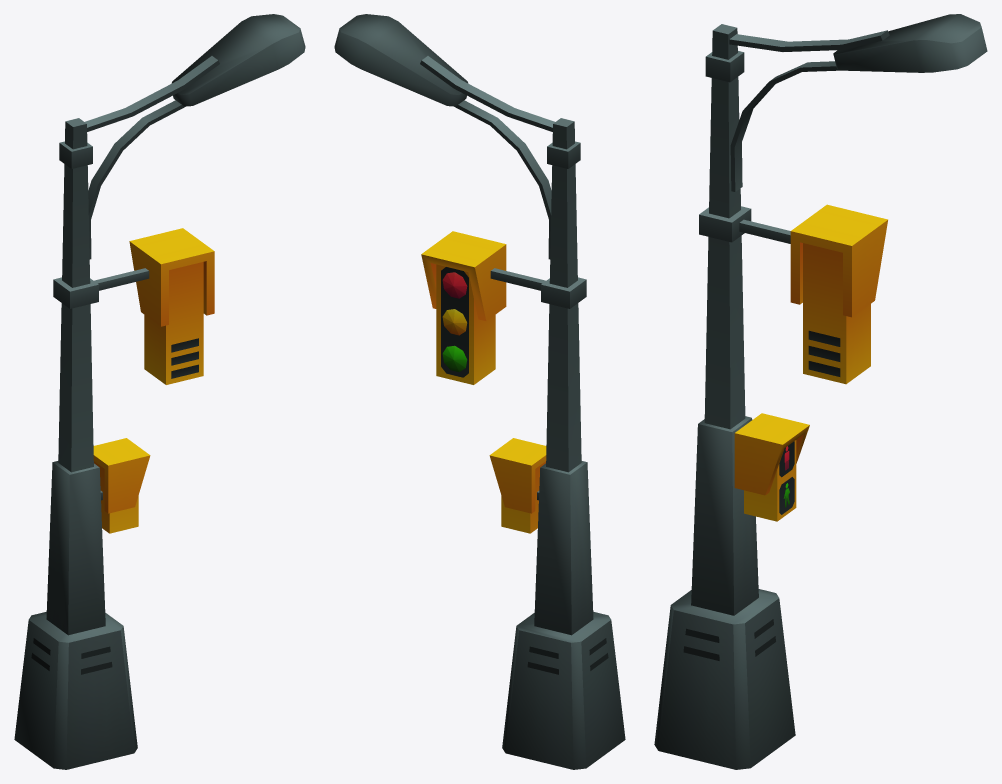
File: Streetlight_3C.fbx
3 views of the same model, side by side, from view 1: azimuth 30°, elevation 25°; view 2: azimuth 150°, elevation 25°; view 3: azimuth 330°, elevation 25° (orthographic). The views are drawn at different scales.
Visible parts, largest first — view 1: Streetlight_3C, Stopsign_3C; view 2: Streetlight_3C, Stopsign_3C; view 3: Streetlight_3C, Stopsign_3C.
Part boxes in pixels (x1=…): Streetlight_3C: x1=14, y1=14, x2=305, y2=769; Stopsign_3C: x1=53, y1=228, x2=214, y2=384; Streetlight_3C: x1=334, y1=14, x2=625, y2=769; Stopsign_3C: x1=421, y1=231, x2=586, y2=384; Streetlight_3C: x1=654, y1=14, x2=987, y2=769; Stopsign_3C: x1=699, y1=204, x2=887, y2=384.
Bounding box in the file's own units: 3.4 × 8.29 × 1.09.
